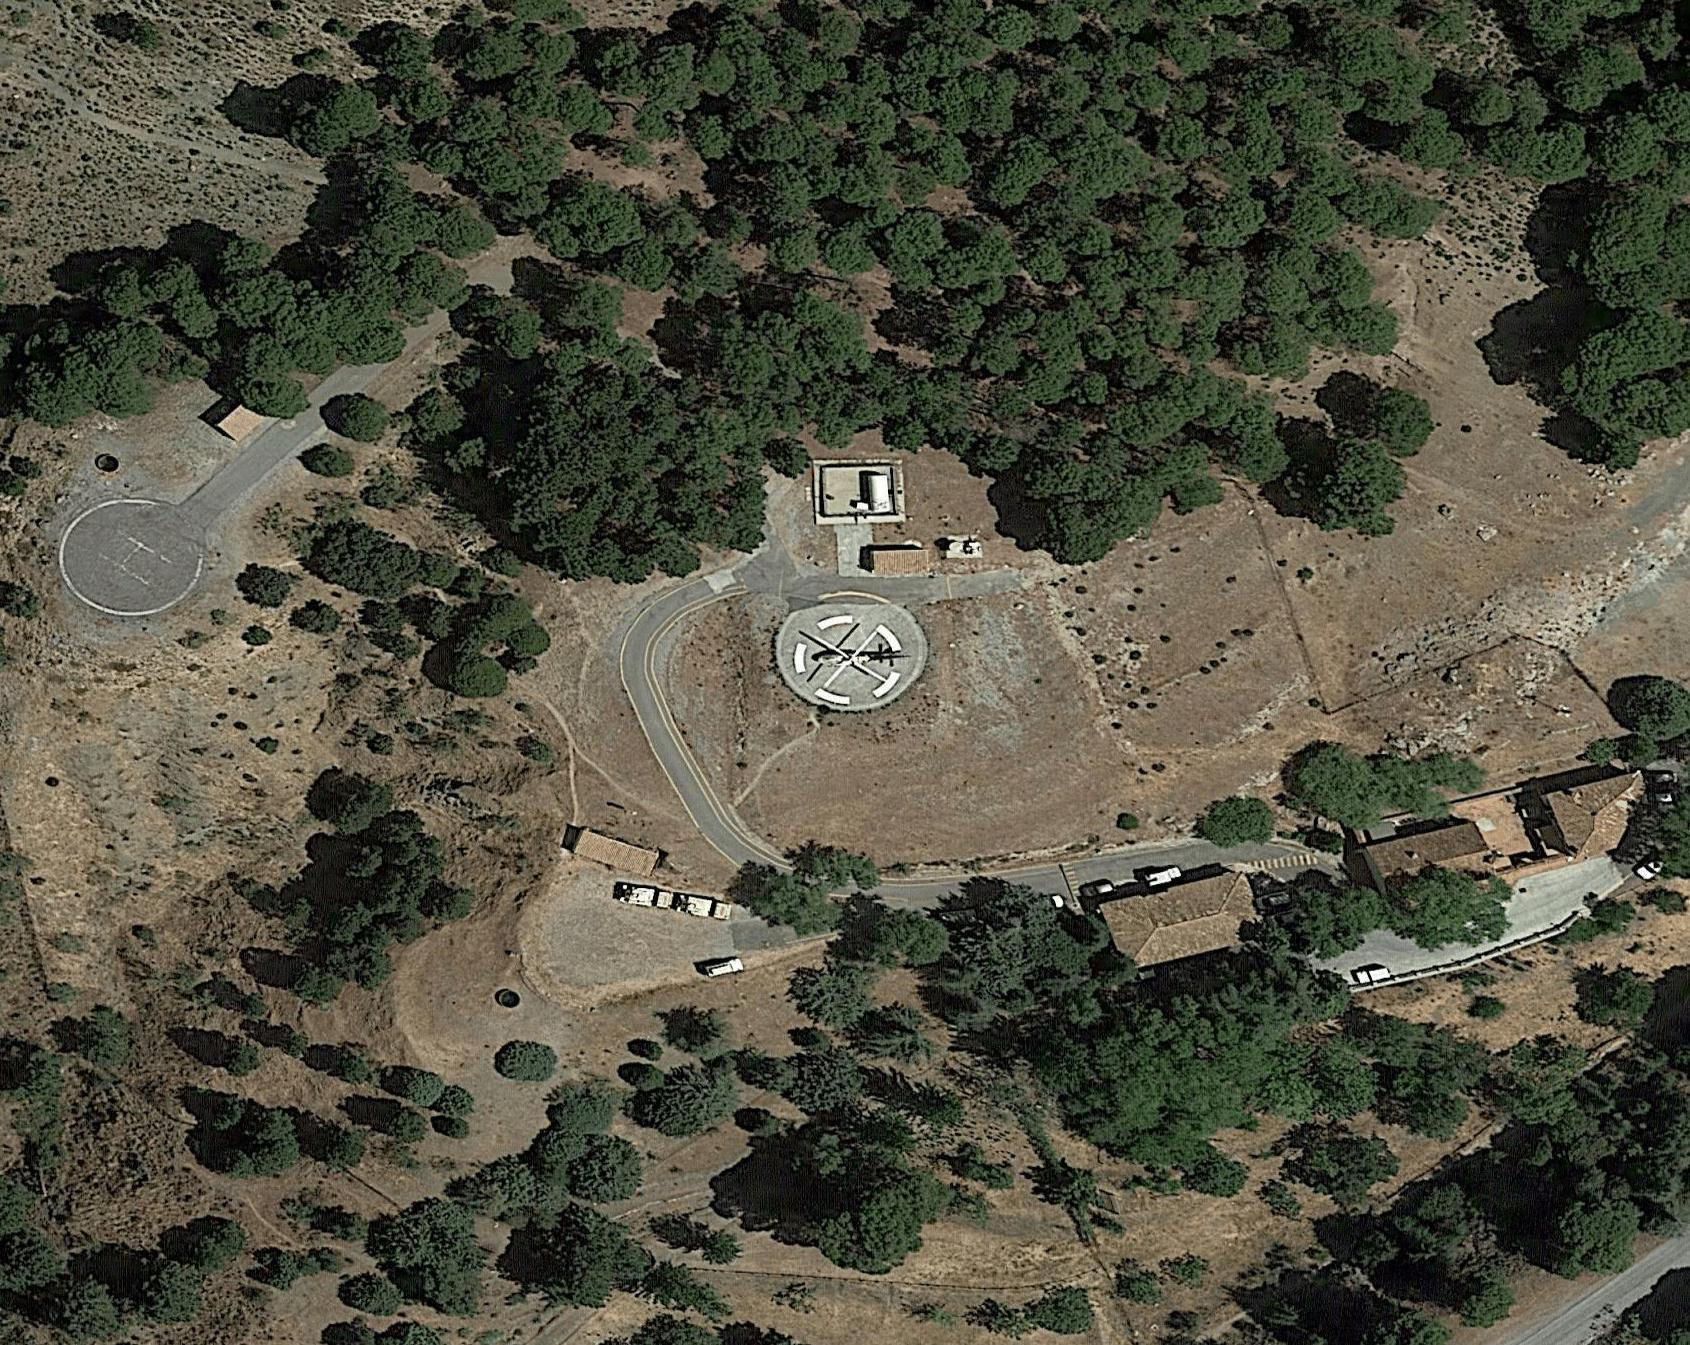helicopter: (809, 640, 905, 677)
helipad: (770, 583, 951, 722)
